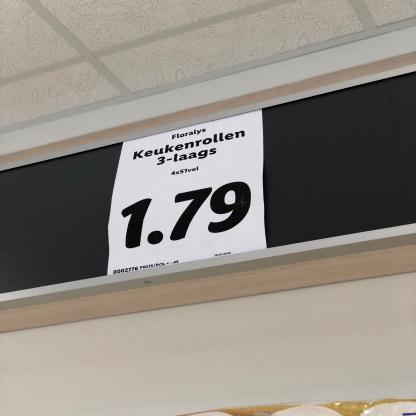prtg: (108, 110, 268, 276)
